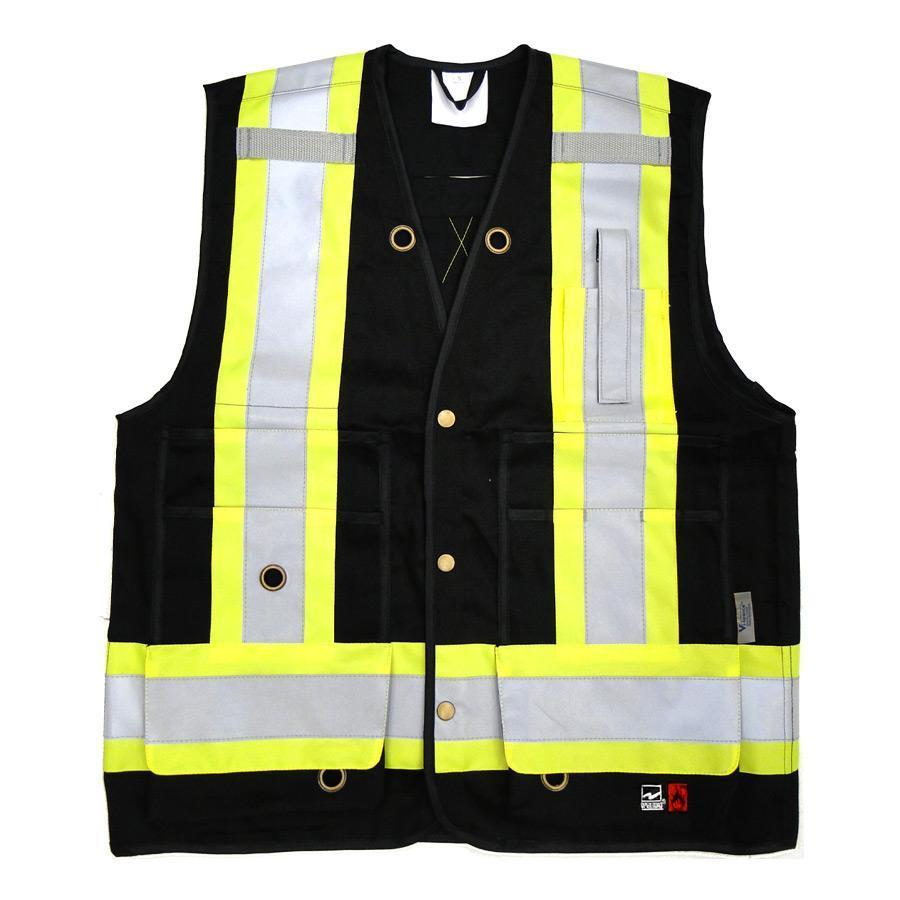vest: (96, 35, 803, 855)
